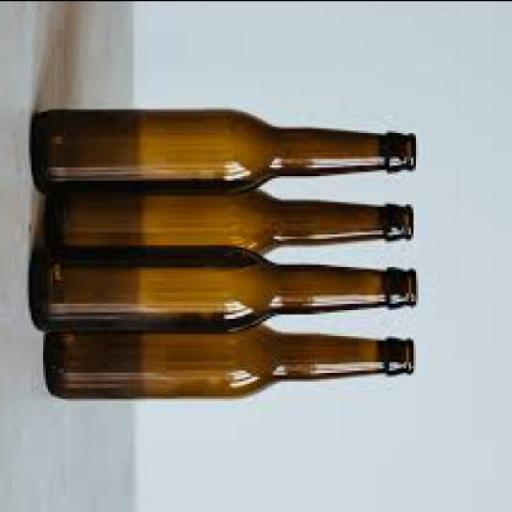glass: (34, 248, 420, 334), (31, 110, 418, 194), (44, 322, 415, 399), (46, 186, 416, 257)
